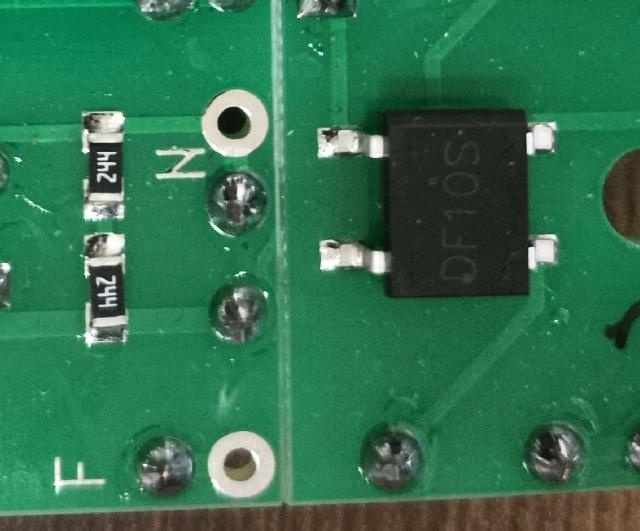chip-resistor: (82, 231, 131, 347), (79, 106, 127, 222)
ic: (316, 105, 565, 299)
